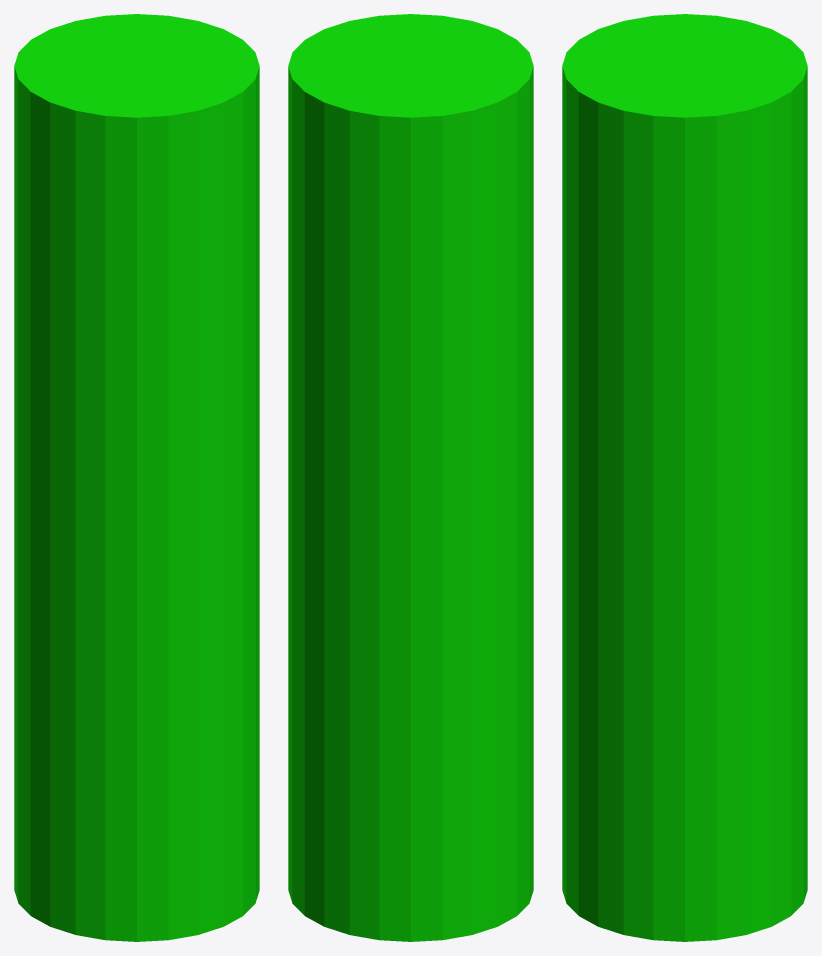
The picture shows the model from 3 angles, left to right: view 1: azimuth 30°, elevation 25°; view 2: azimuth 150°, elevation 25°; view 3: azimuth 270°, elevation 25°; orthographic projection.
Parts seen in each view (by area): view 1: Cylinder.001; view 2: Cylinder.001; view 3: Cylinder.001.
Boxes of the visible parts, <box> form: Cylinder.001: <box>14,14,259,941</box>; Cylinder.001: <box>288,14,533,941</box>; Cylinder.001: <box>562,14,807,941</box>.
Bounding box in the file's own units: 770 × 2855 × 770.
